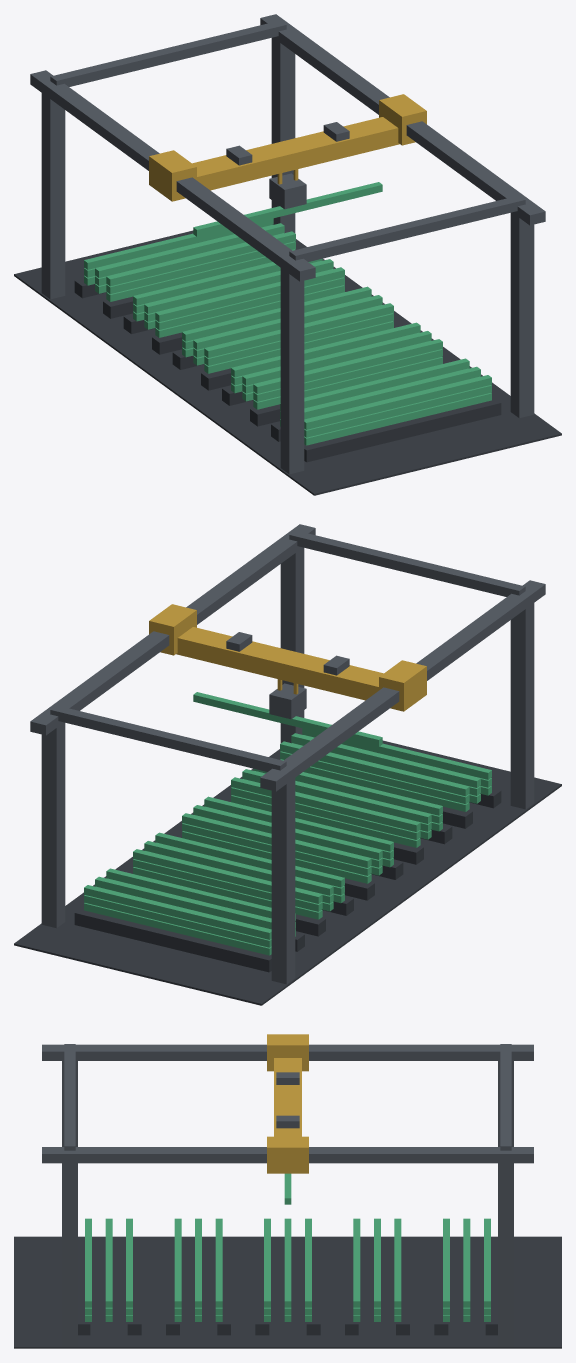
File: gantry_yard_product.glb
3 renders of one model, top to bottom at view 1: azimuth 30°, elevation 25°; view 2: azimuth 150°, elevation 25°; view 3: azimuth 270°, elevation 25°, orthographic. The views are drawn at different scales.
Parts seen in each view (by area): view 1: yard_product_static_steel_light, yard_product_static_steel_dark, stock_b4, stock_b3, stock_b2, stock_b0, stock_b1, crane_bridge, crane_payload, truck_-2.6, truck_2.6, crane_hook; view 2: yard_product_static_steel_light, yard_product_static_steel_dark, stock_b0, stock_b1, stock_b2, stock_b4, stock_b3, crane_bridge, crane_payload, truck_-2.6, truck_2.6, crane_hook; view 3: yard_product_static_steel_dark, yard_product_static_steel_light, stock_b1, stock_b3, stock_b0, stock_b4, stock_b2, crane_bridge, truck_2.6, truck_-2.6.
Boxes of the visible parts, x1=… form: yard_product_static_steel_light: x1=30, y1=14, x2=545, y2=474; yard_product_static_steel_dark: x1=14, y1=230, x2=561, y2=495; stock_b4: x1=280, y1=358, x2=491, y2=445; stock_b3: x1=231, y1=322, x2=442, y2=409; stock_b2: x1=182, y1=286, x2=393, y2=373; stock_b0: x1=84, y1=218, x2=295, y2=301; stock_b1: x1=133, y1=258, x2=344, y2=337; crane_bridge: x1=192, y1=117, x2=399, y2=190; crane_payload: x1=193, y1=182, x2=382, y2=236; truck_-2.6: x1=149, y1=150, x2=196, y2=201; truck_2.6: x1=379, y1=94, x2=426, y2=145; crane_hook: x1=269, y1=173, x2=306, y2=209; yard_product_static_steel_light: x1=30, y1=524, x2=545, y2=984; yard_product_static_steel_dark: x1=14, y1=740, x2=561, y2=1005; stock_b0: x1=84, y1=868, x2=295, y2=955; stock_b1: x1=133, y1=832, x2=344, y2=919; stock_b2: x1=182, y1=796, x2=393, y2=883; stock_b4: x1=280, y1=728, x2=491, y2=811; stock_b3: x1=231, y1=768, x2=442, y2=847; crane_bridge: x1=176, y1=627, x2=383, y2=700; crane_payload: x1=193, y1=692, x2=382, y2=746; truck_-2.6: x1=379, y1=660, x2=426, y2=711; truck_2.6: x1=149, y1=604, x2=196, y2=655; crane_hook: x1=269, y1=683, x2=306, y2=719; yard_product_static_steel_dark: x1=14, y1=1236, x2=561, y2=1348; yard_product_static_steel_light: x1=42, y1=1044, x2=533, y2=1346; stock_b1: x1=353, y1=1218, x2=401, y2=1321; stock_b3: x1=174, y1=1218, x2=222, y2=1321; stock_b0: x1=443, y1=1218, x2=490, y2=1321; stock_b4: x1=85, y1=1218, x2=132, y2=1321; stock_b2: x1=264, y1=1218, x2=311, y2=1321; crane_bridge: x1=274, y1=1058, x2=301, y2=1136; truck_2.6: x1=267, y1=1136, x2=308, y2=1173; truck_-2.6: x1=267, y1=1034, x2=308, y2=1071.
Bounding box in the file's own units: 5.76 × 4.8 × 11.76.
